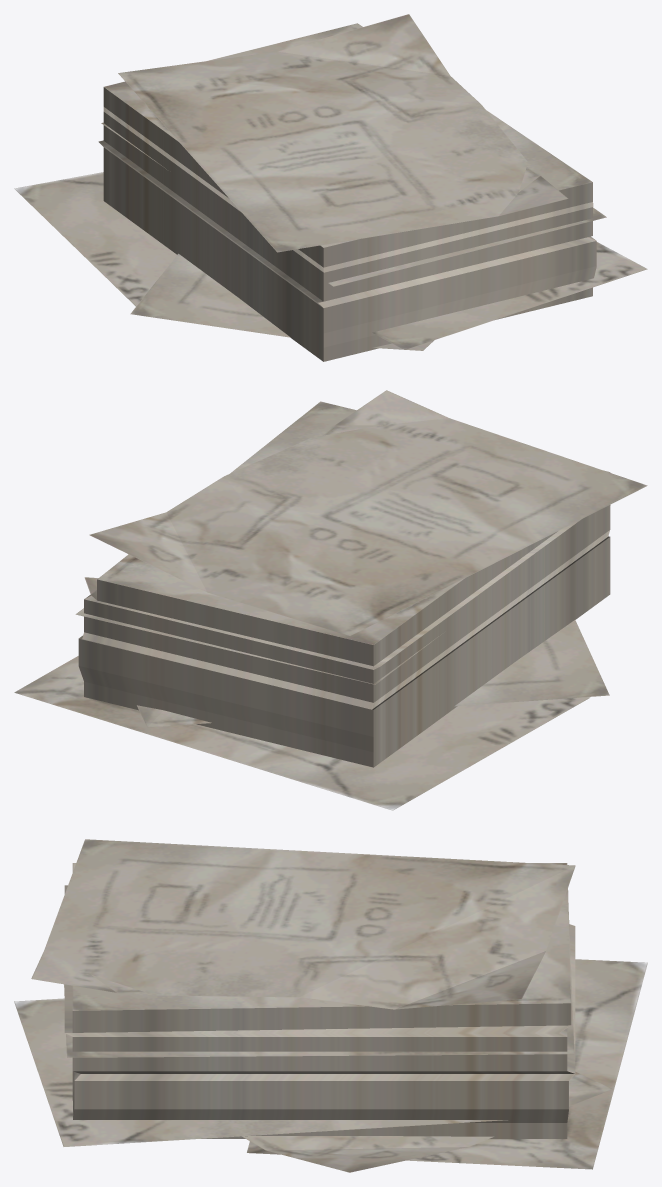
File: pilepapier.glb
3 renders of one model, top to bottom at view 1: azimuth 30°, elevation 25°; view 2: azimuth 150°, elevation 25°; view 3: azimuth 270°, elevation 25°, orthographic. The views are drawn at different scales.
Visible parts, largest first — view 1: Plane.001; view 2: Plane.001; view 3: Plane.001.
Part boxes in pixels (box(x1,y1,x2,y2)): Plane.001: box(14, 14, 647, 361); Plane.001: box(14, 390, 647, 810); Plane.001: box(14, 839, 647, 1172).
Size of the model in its own units: 0.4754 by 0.1317 by 0.502.
Materials: 5 (5 with a texture image).
